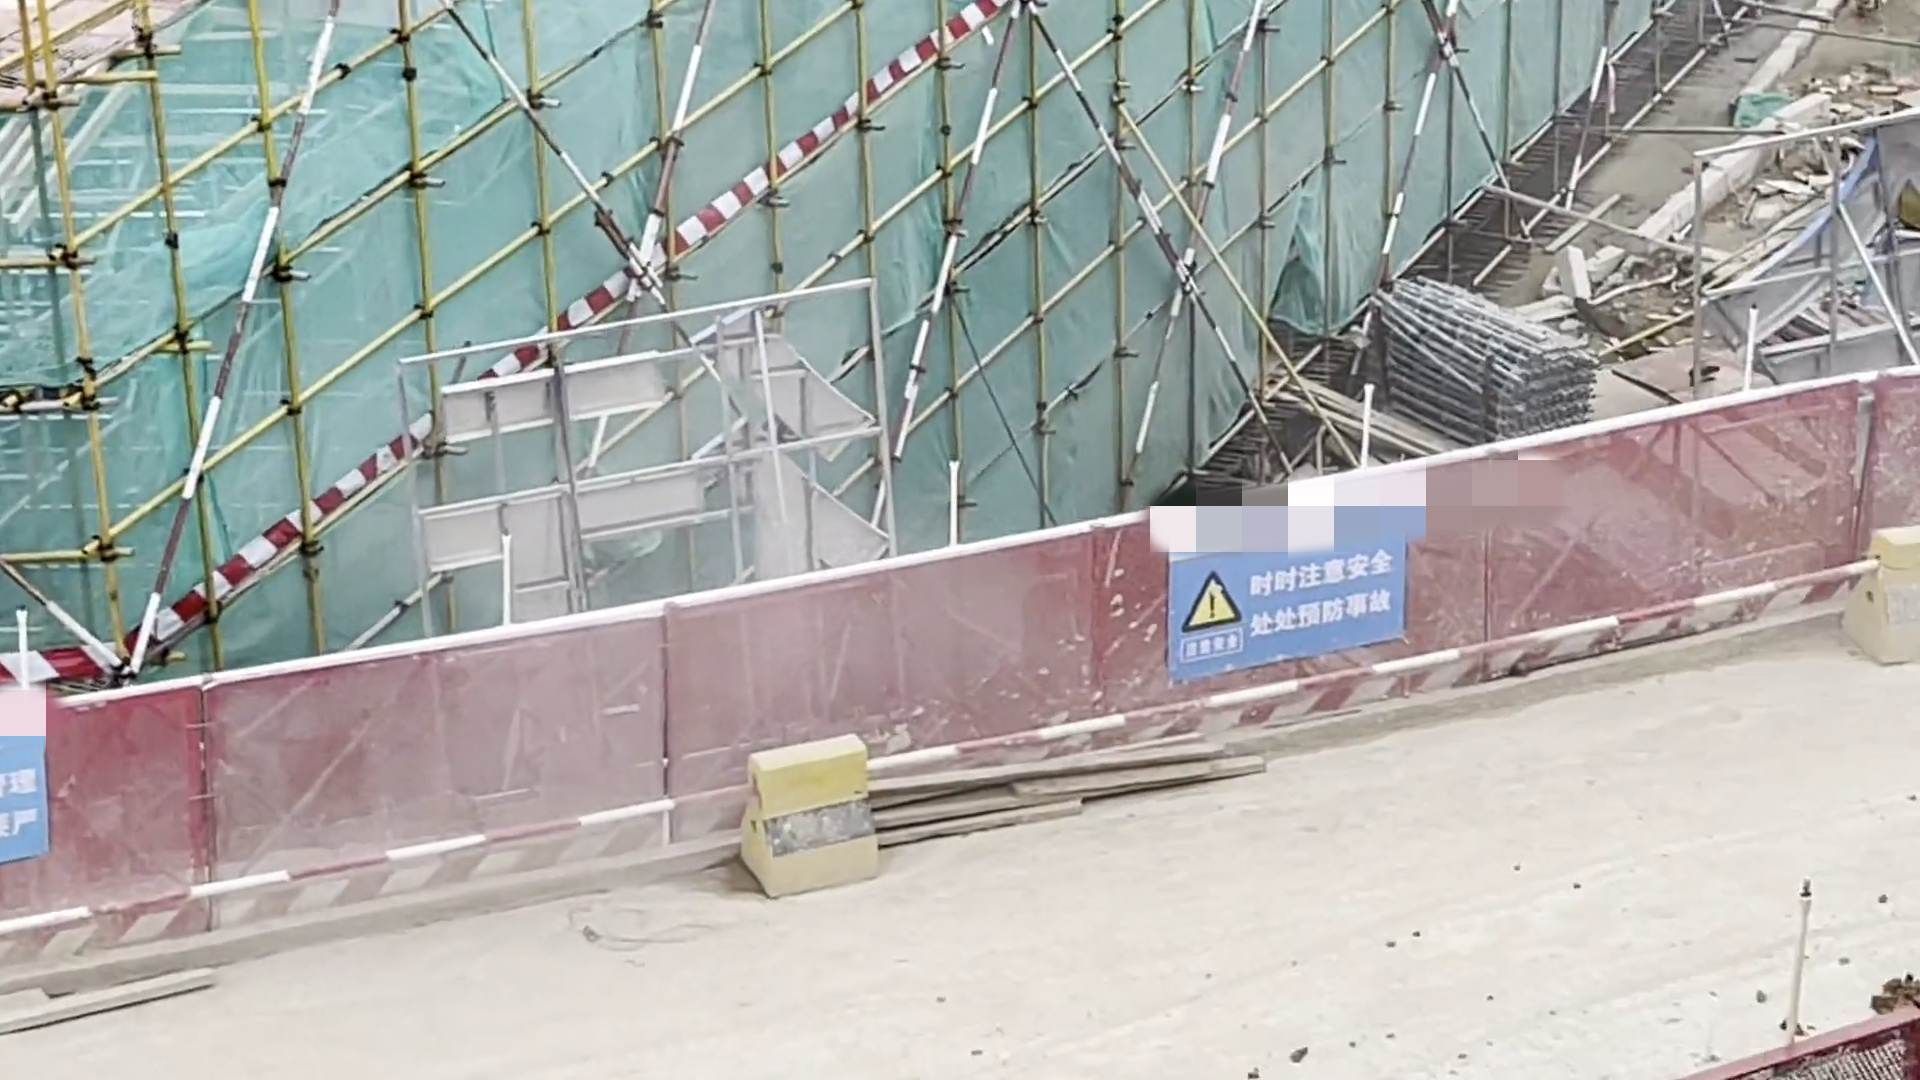fence: (26, 425, 1919, 803)
scaffold: (1371, 255, 1560, 429)
slogan: (1179, 527, 1404, 663)
